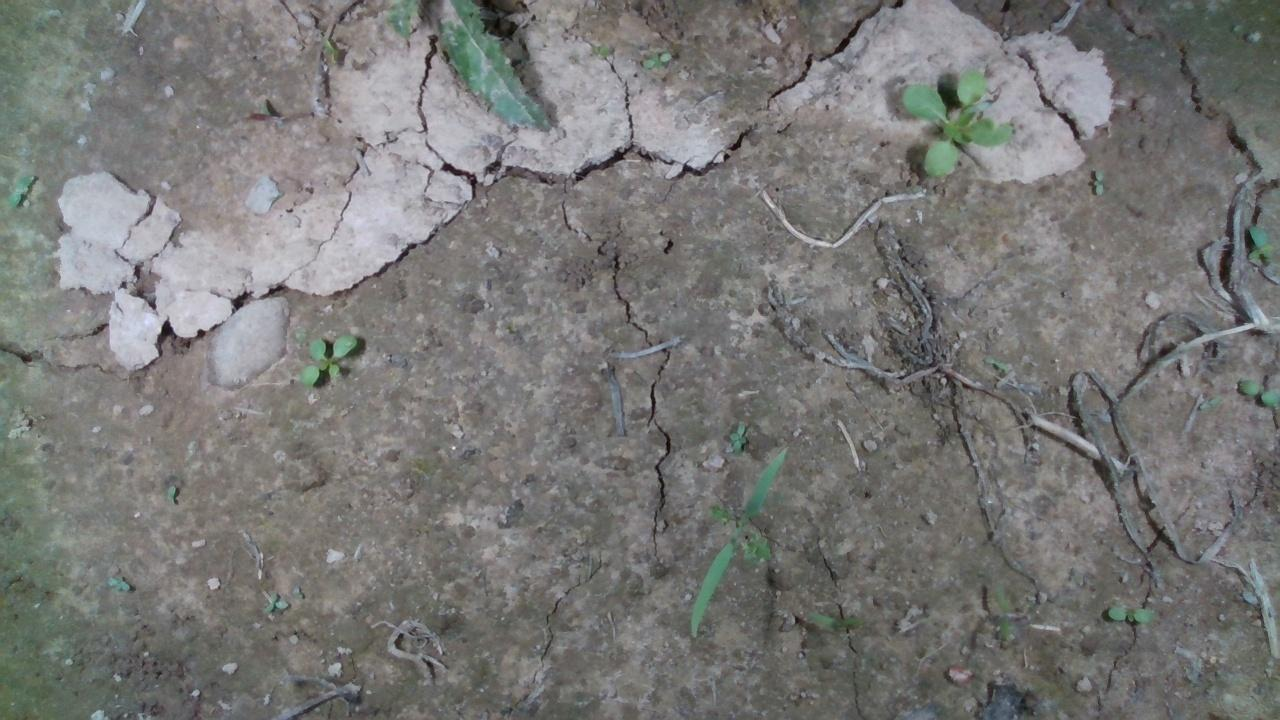weed: (296, 333, 370, 386), (1107, 592, 1156, 629), (1234, 371, 1275, 412), (637, 43, 670, 75), (1085, 163, 1113, 199), (727, 415, 745, 453)
